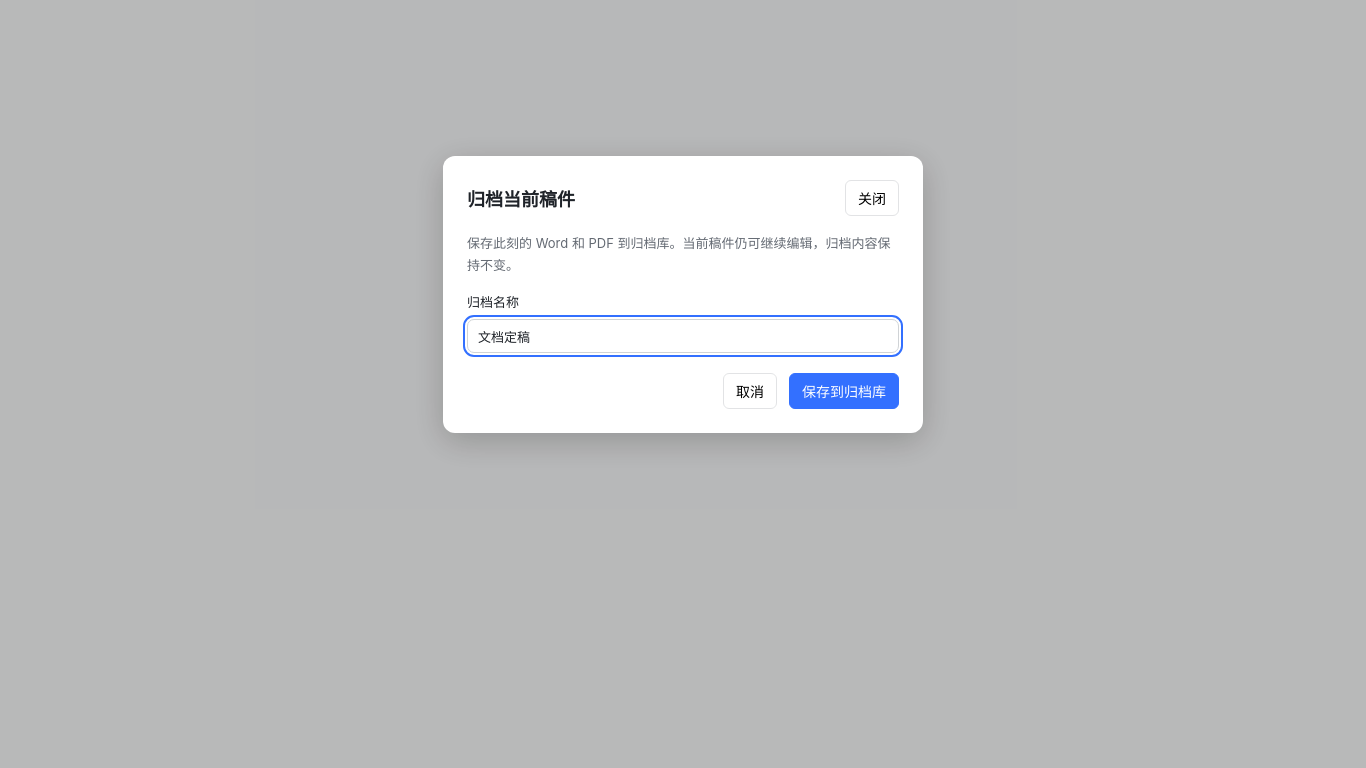
归档当前稿件 › 处理中不能重复提交或关闭，失败后保留名称供重试
Replace the text in the field named "归档名称" with "保留名称". click: [683, 336]
box: [467,319,899,353]
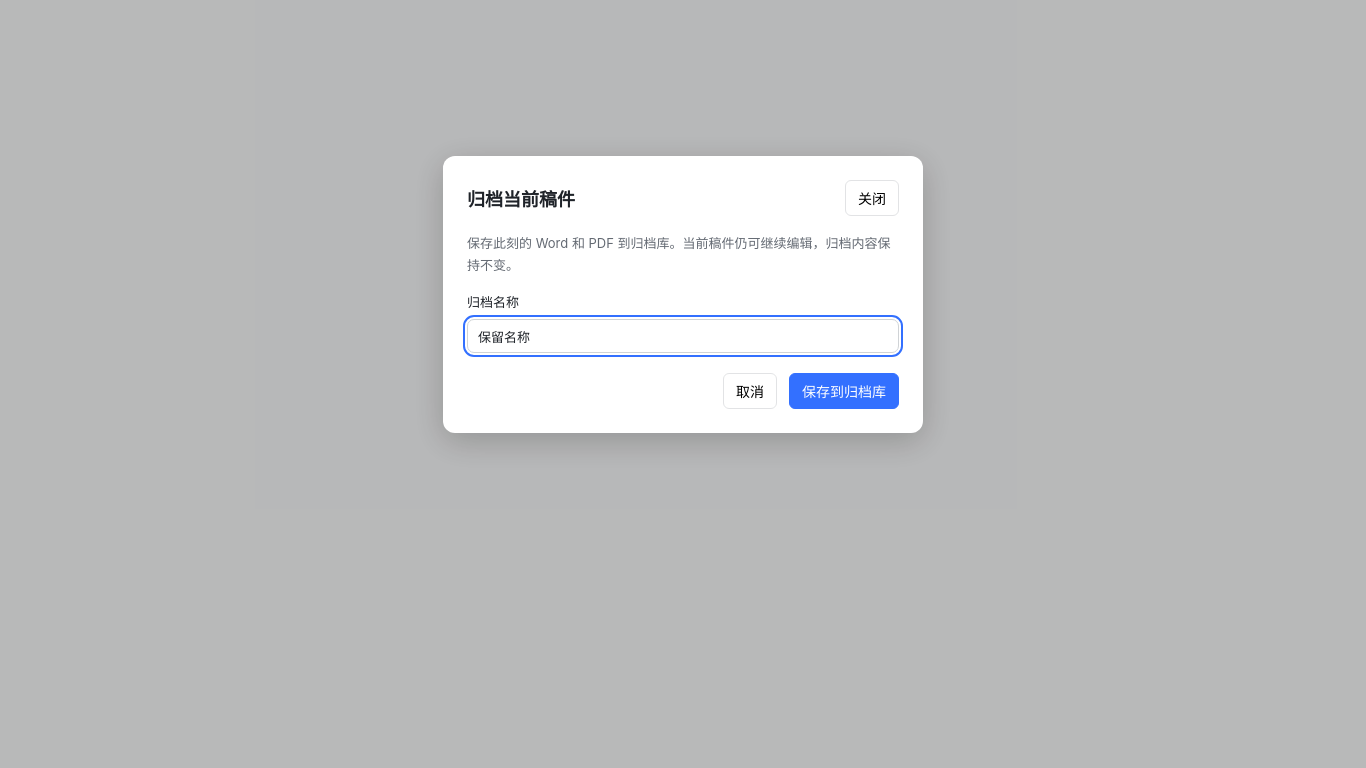
Submit the form, box [443,156,923,433]
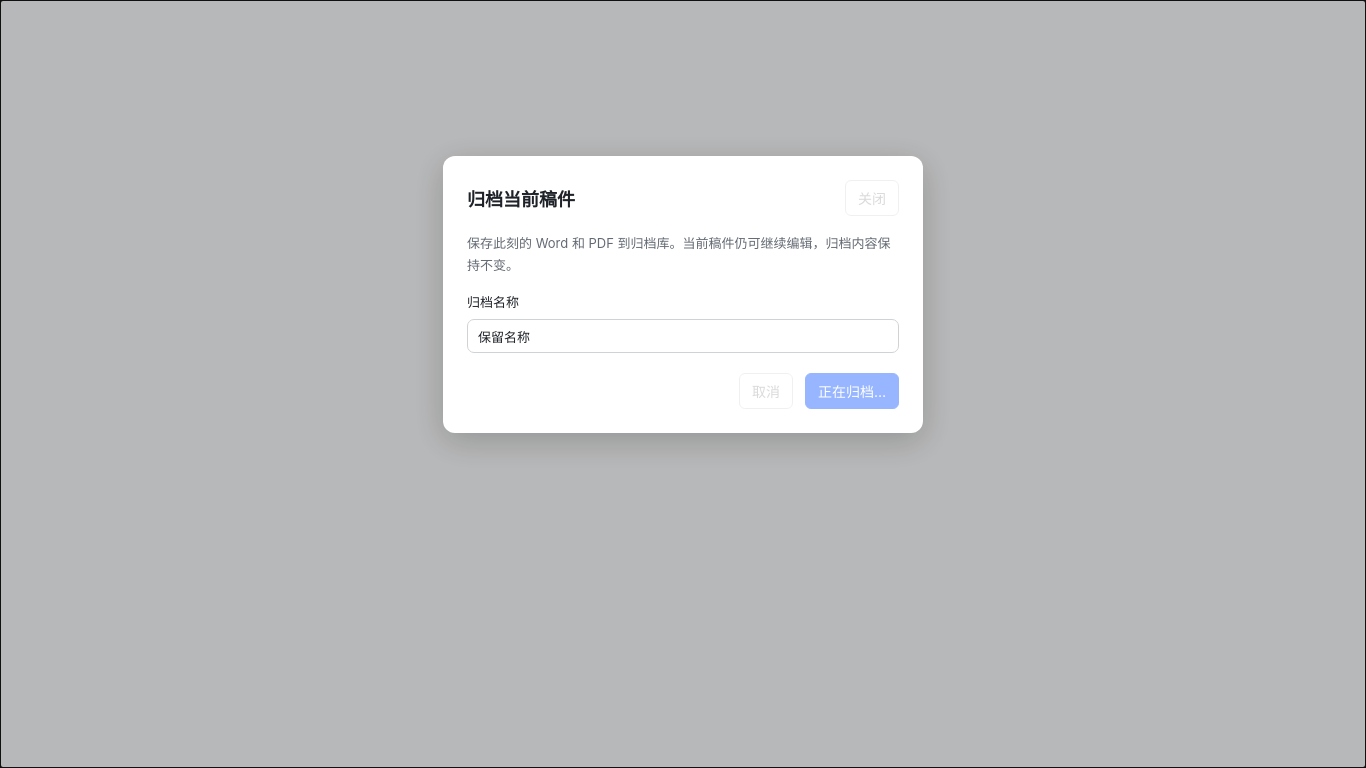
Submit the form, box [443,156,923,433]
Click the button with aria-label "关闭归档". click: [872, 198]
box: [845,180,899,216]
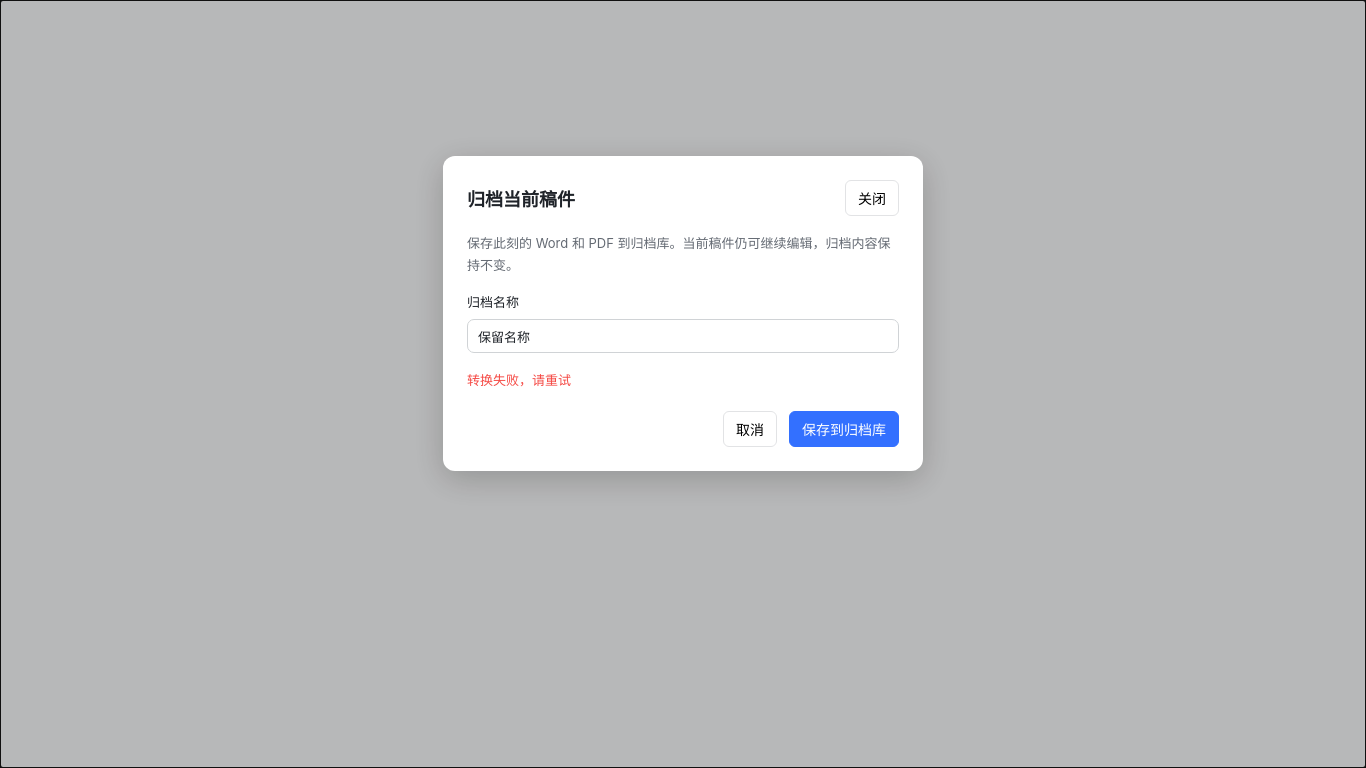
Expected: the message "转换失败，请重试" is shown, [467,372,571,388]
Expected: the submit button is enabled, [789,411,899,447]
